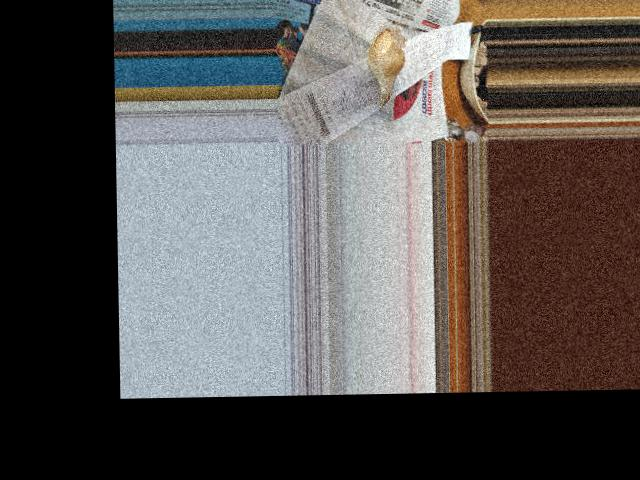onion: (365, 30, 407, 91)
